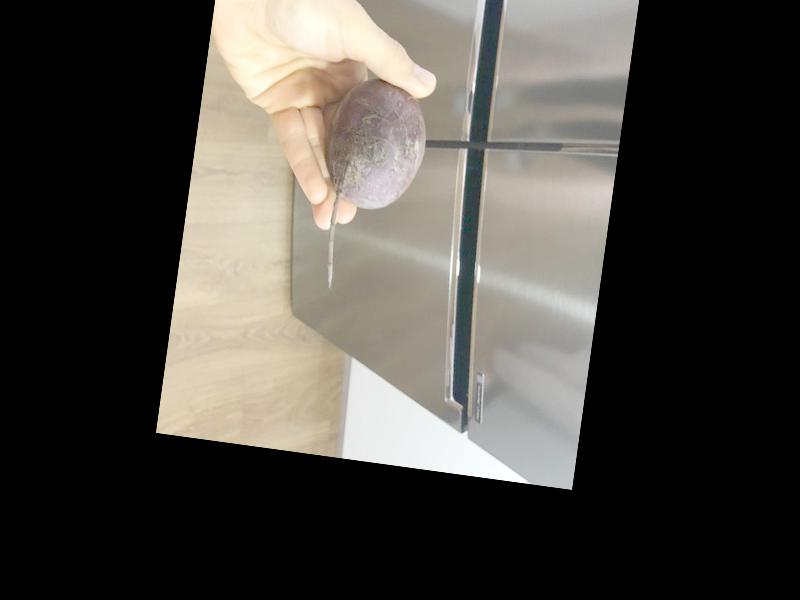Beet: (307, 74, 434, 299)
